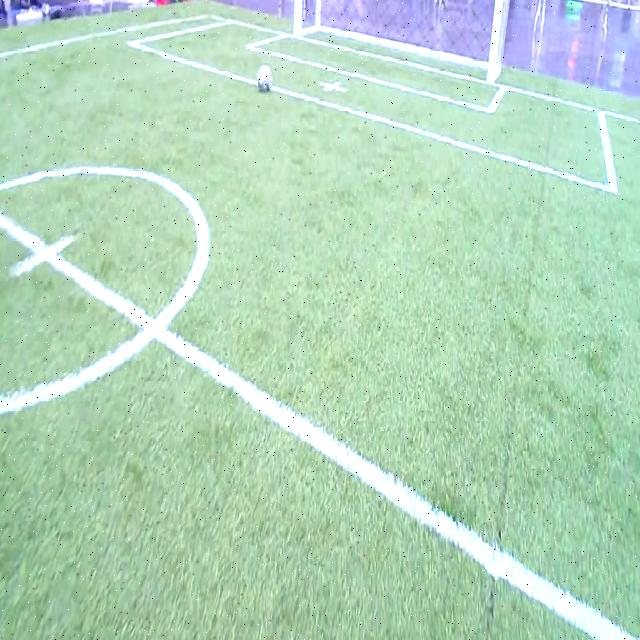ball: (257, 64, 272, 92)
